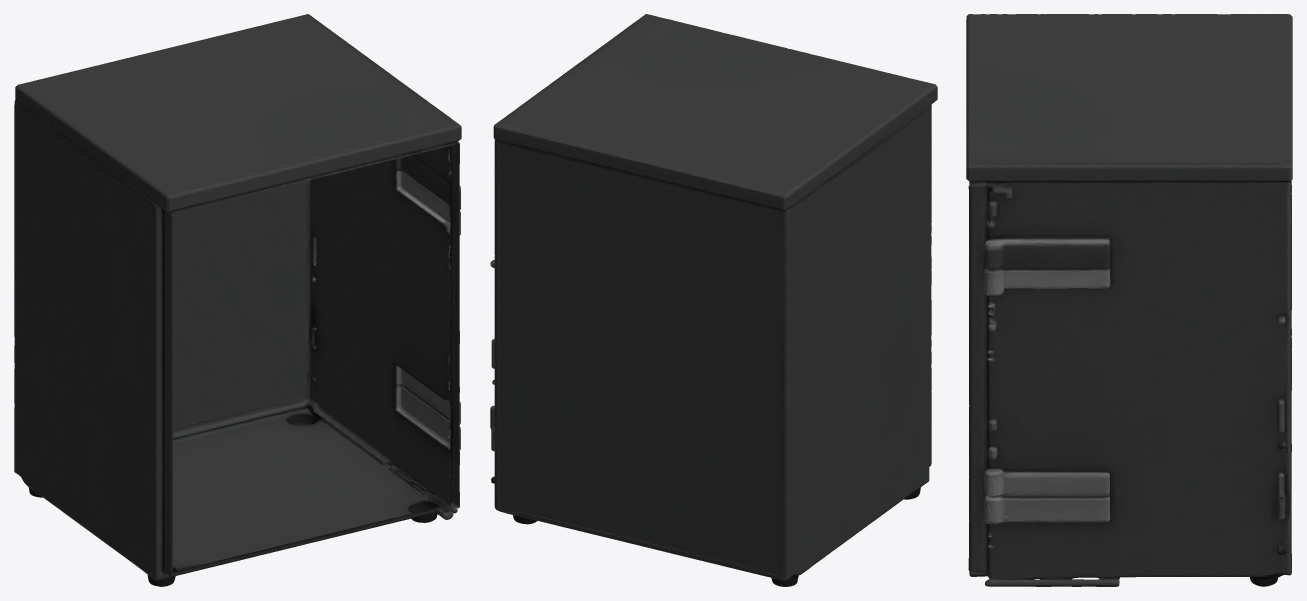
The model's file is body.glb.
3 views of the same model, side by side, from view 1: azimuth 30°, elevation 25°; view 2: azimuth 150°, elevation 25°; view 3: azimuth 270°, elevation 25° (orthographic). The views are drawn at different scales.
Parts seen in each view (by area): view 1: source_surface_0; view 2: source_surface_0; view 3: source_surface_0.
Boxes of the visible parts, bbox=[...] form: source_surface_0: bbox=[14, 14, 461, 586]; source_surface_0: bbox=[490, 14, 937, 586]; source_surface_0: bbox=[966, 14, 1292, 586].
Size of the model in its own units: 0.493 by 0.62 by 0.4294.
Materials: 1 (1 with a texture image).
